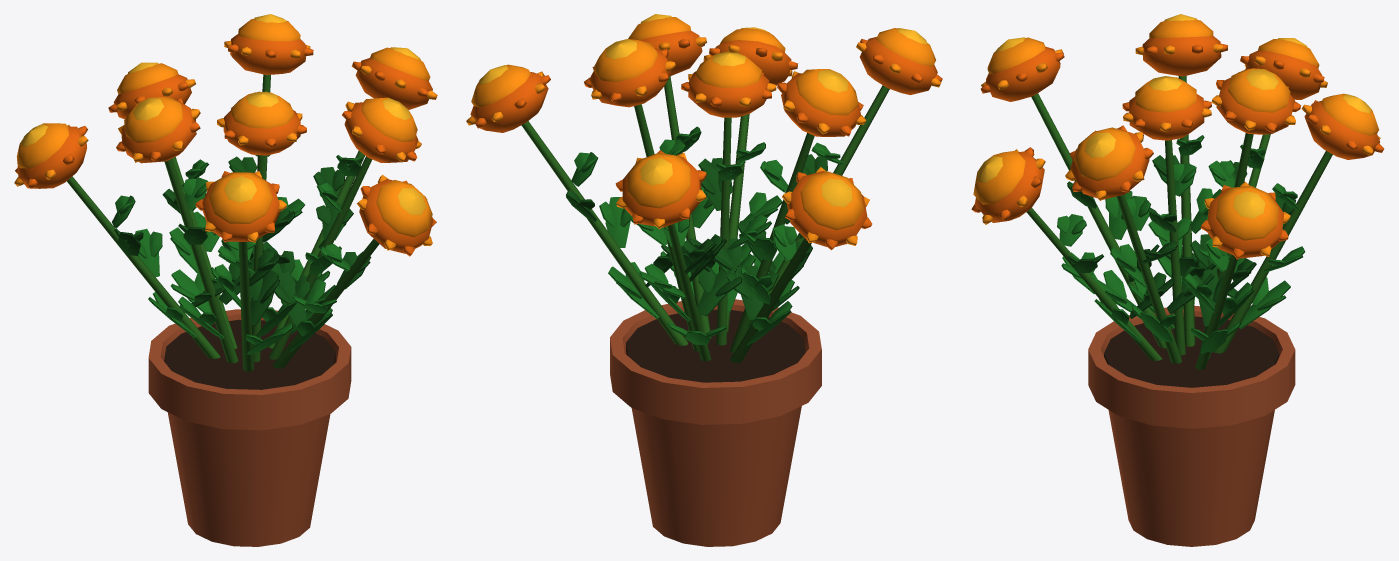
Rendered from maceta_cempasuchil.obj.
3 renders of one model, left to right at view 1: azimuth 30°, elevation 25°; view 2: azimuth 150°, elevation 25°; view 3: azimuth 270°, elevation 25°, orthographic. The views are drawn at different scales.
Parts seen in each view (by area): view 1: maceta_cempasuchil; view 2: maceta_cempasuchil; view 3: maceta_cempasuchil.
Part boxes in pixels (x1,y1,x2,y2): maceta_cempasuchil: (14, 14, 437, 546); maceta_cempasuchil: (466, 14, 942, 546); maceta_cempasuchil: (971, 14, 1384, 546).
Size of the model in its own units: 0.5237 by 0.5951 by 0.4708.
